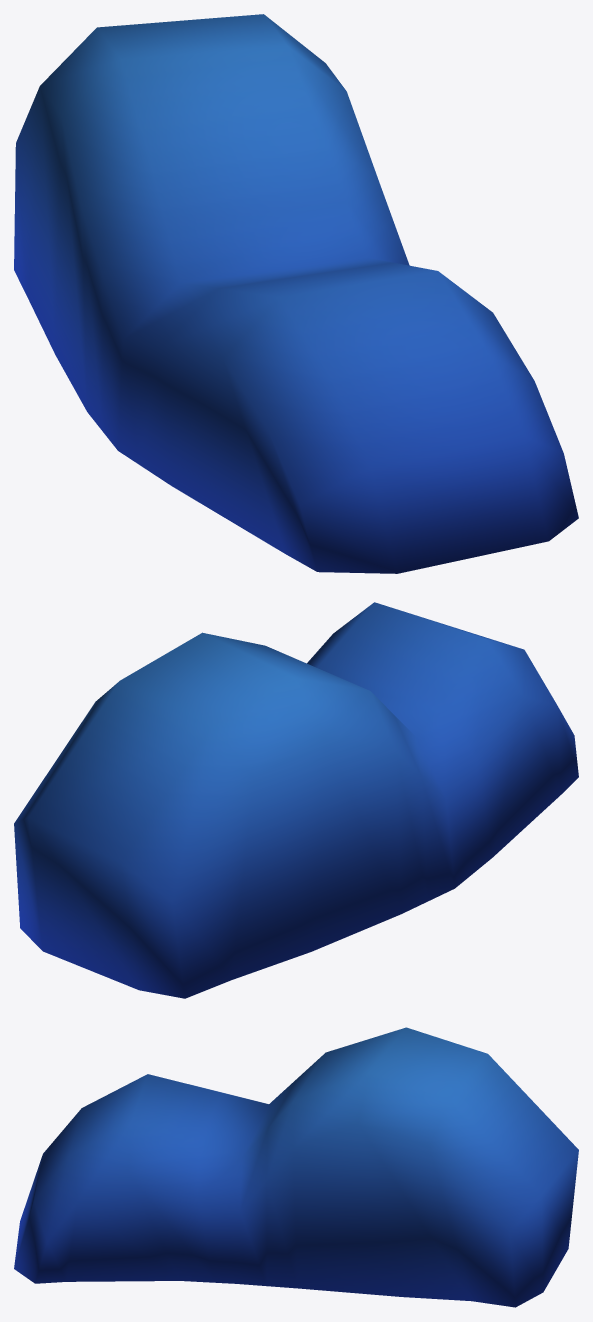
The model's file is Buisson.fbx.
The picture shows the model from 3 angles, top to bottom: view 1: azimuth 30°, elevation 25°; view 2: azimuth 150°, elevation 25°; view 3: azimuth 270°, elevation 25°; orthographic projection. The views are drawn at different scales.
Visible parts, largest first — view 1: Buisson; view 2: Buisson; view 3: Buisson.
Boxes of the visible parts, x1,y1,x2,y2 form: Buisson: (14, 14, 578, 573); Buisson: (14, 602, 578, 998); Buisson: (14, 1027, 578, 1307).
Bounding box in the file's own units: 316 × 255 × 652.
